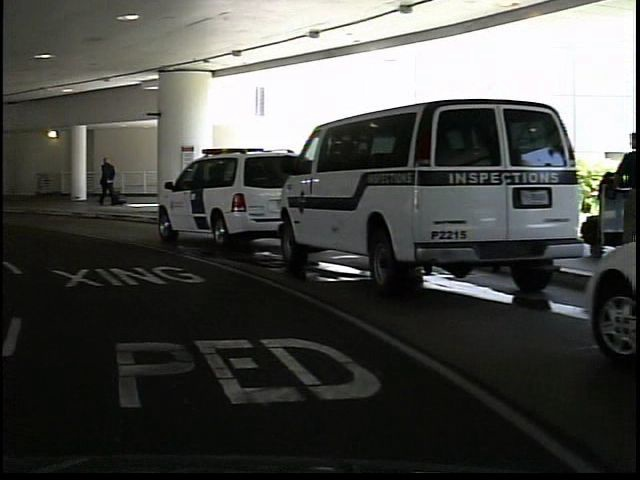person: (94, 152, 119, 211)
